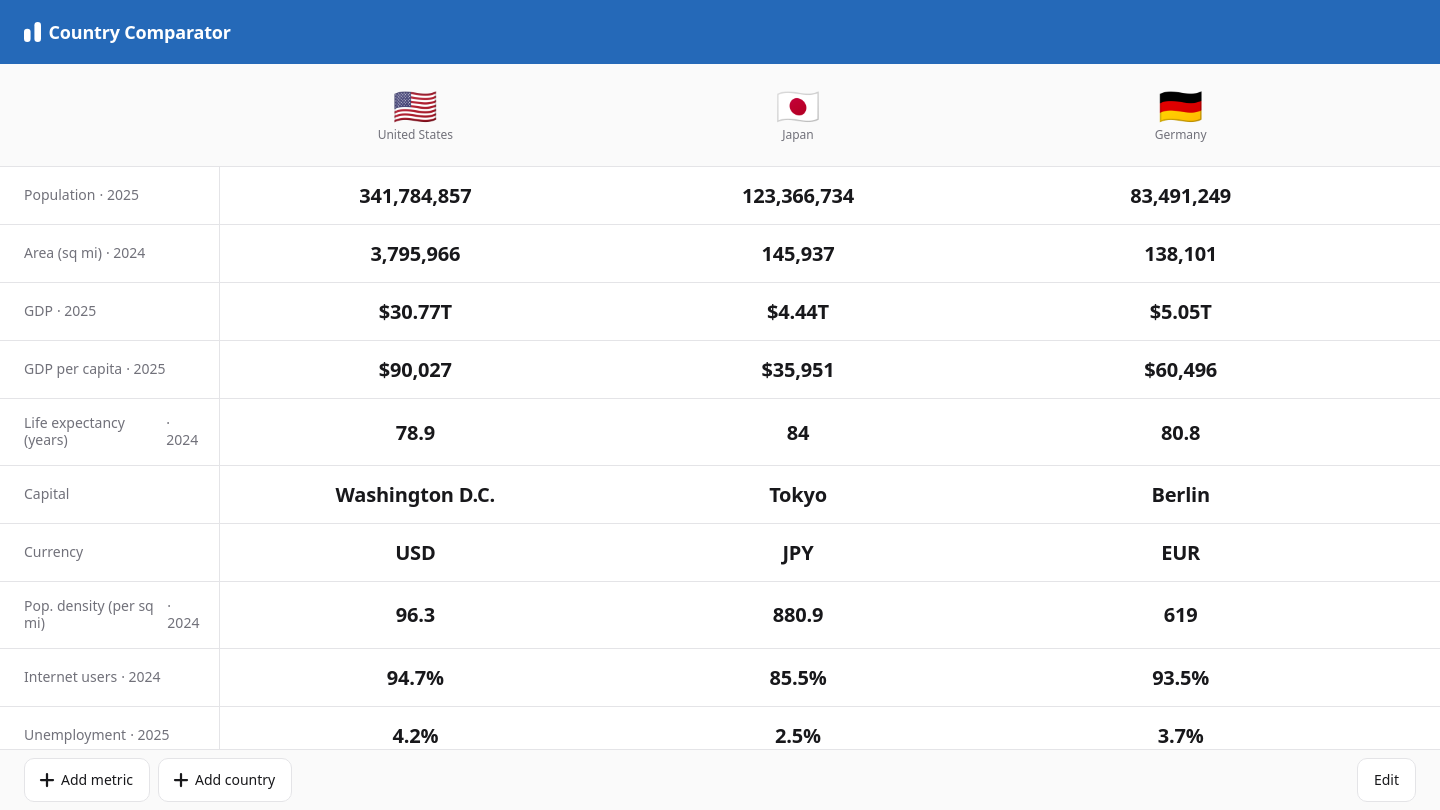
Test: App › edit mode › removes a country and a metric, and offers them in the pickers again
Click the button "Edit": (1386, 780) [1357, 758, 1416, 802]
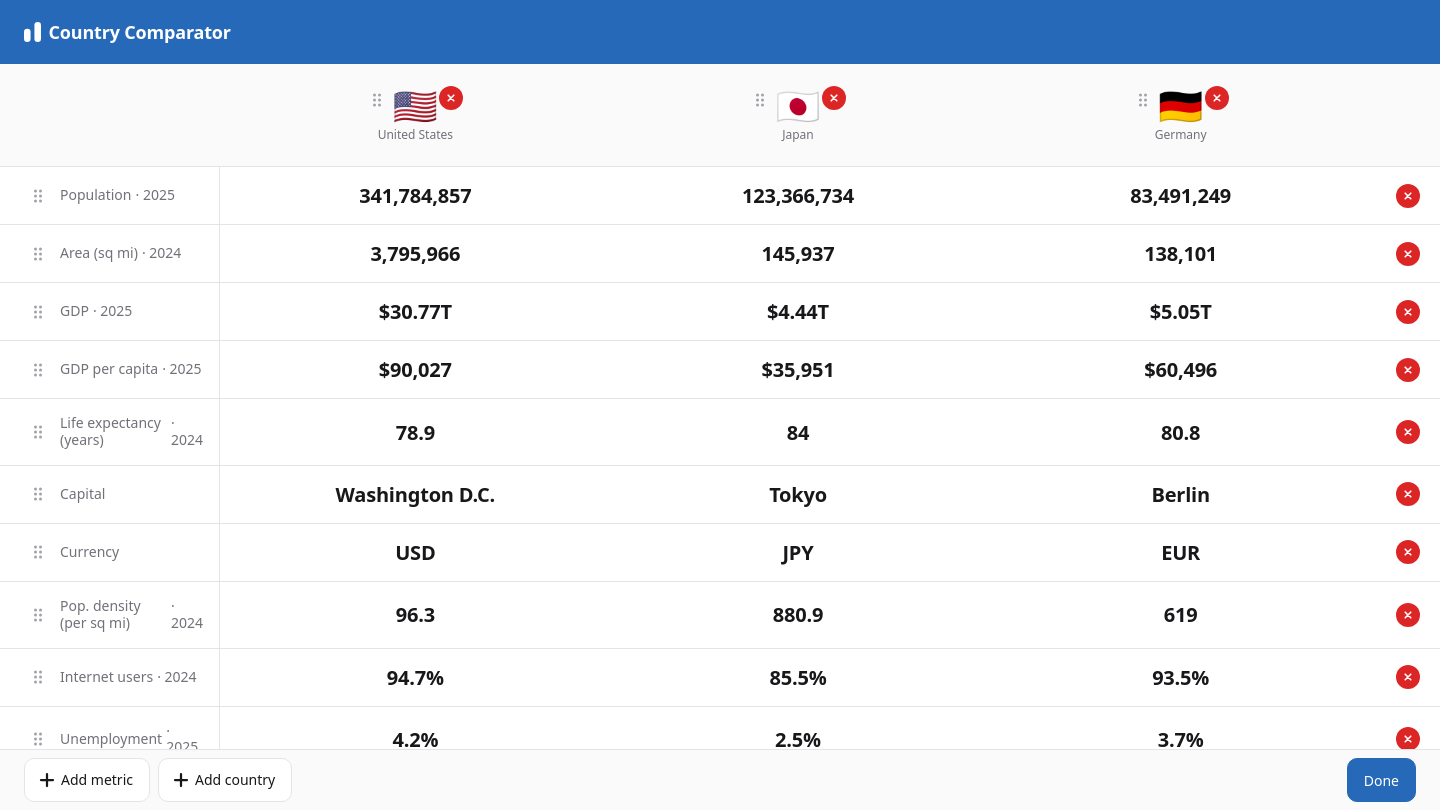
Click the button named "Remove Japan": (834, 98) [822, 86, 846, 110]
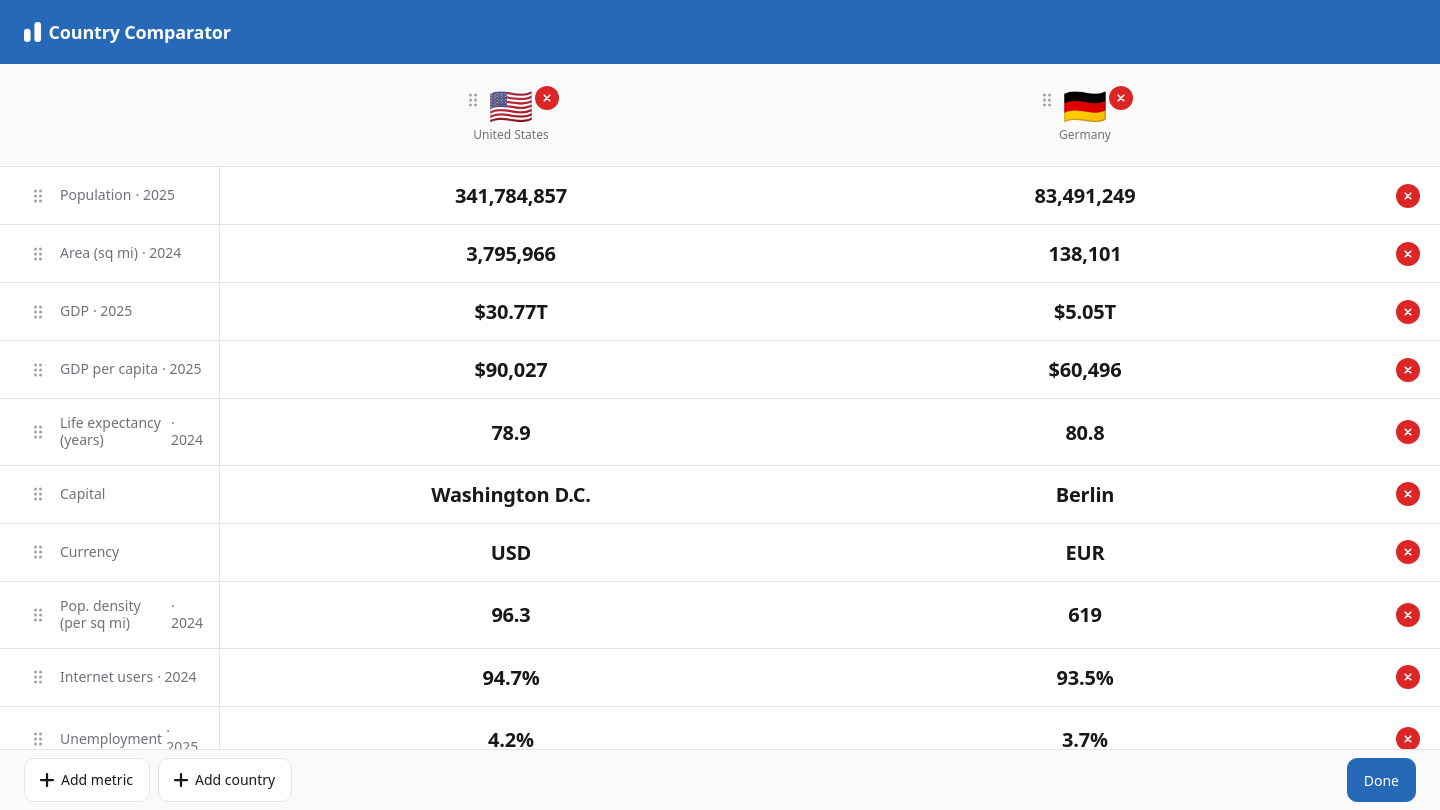
Check: the text "Japan" is gone
Click the button named "Remove Population": (1408, 196) [1396, 184, 1420, 208]
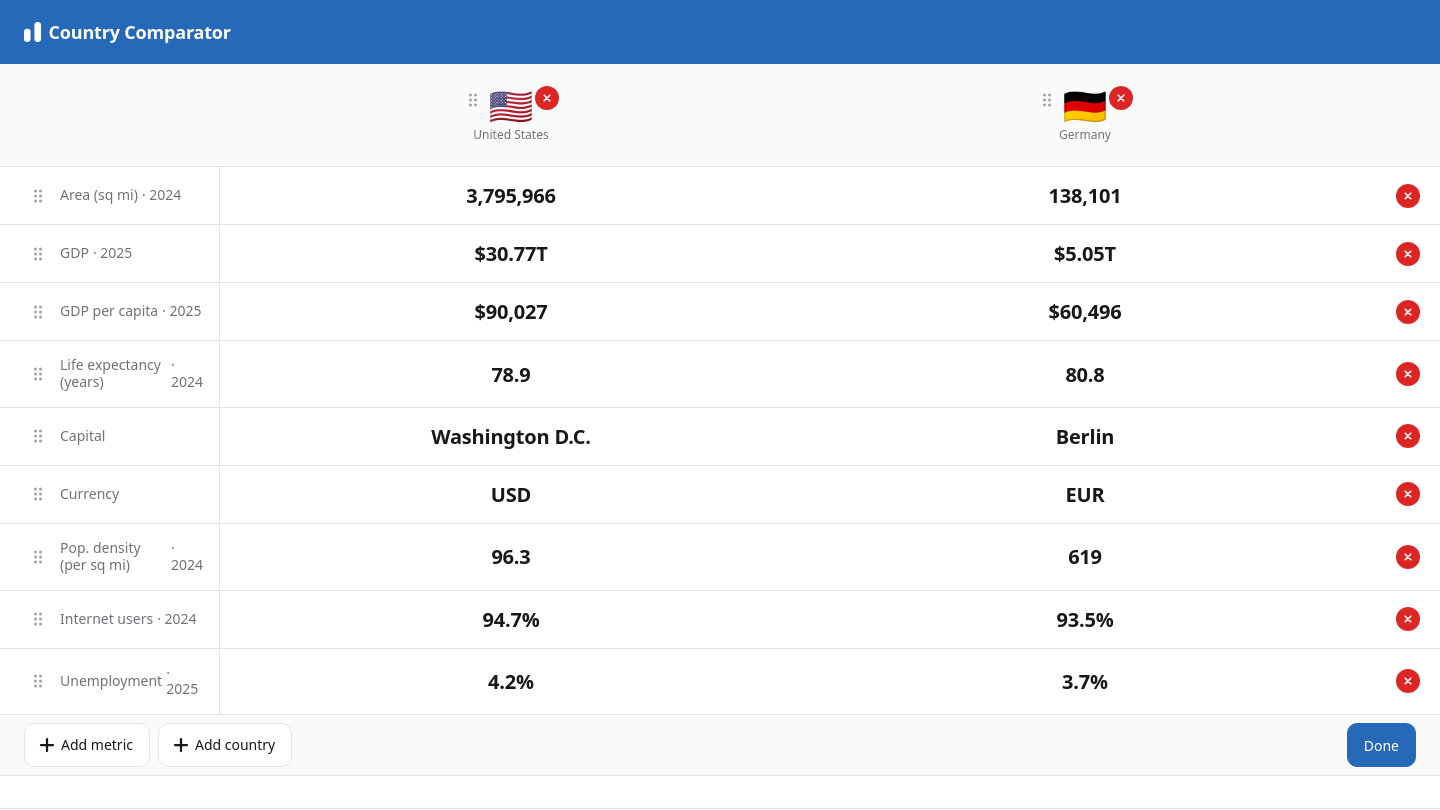
Check: the text "Population" is gone
Click the button "Add country": (225, 745) [158, 723, 292, 767]
(page scrolled)
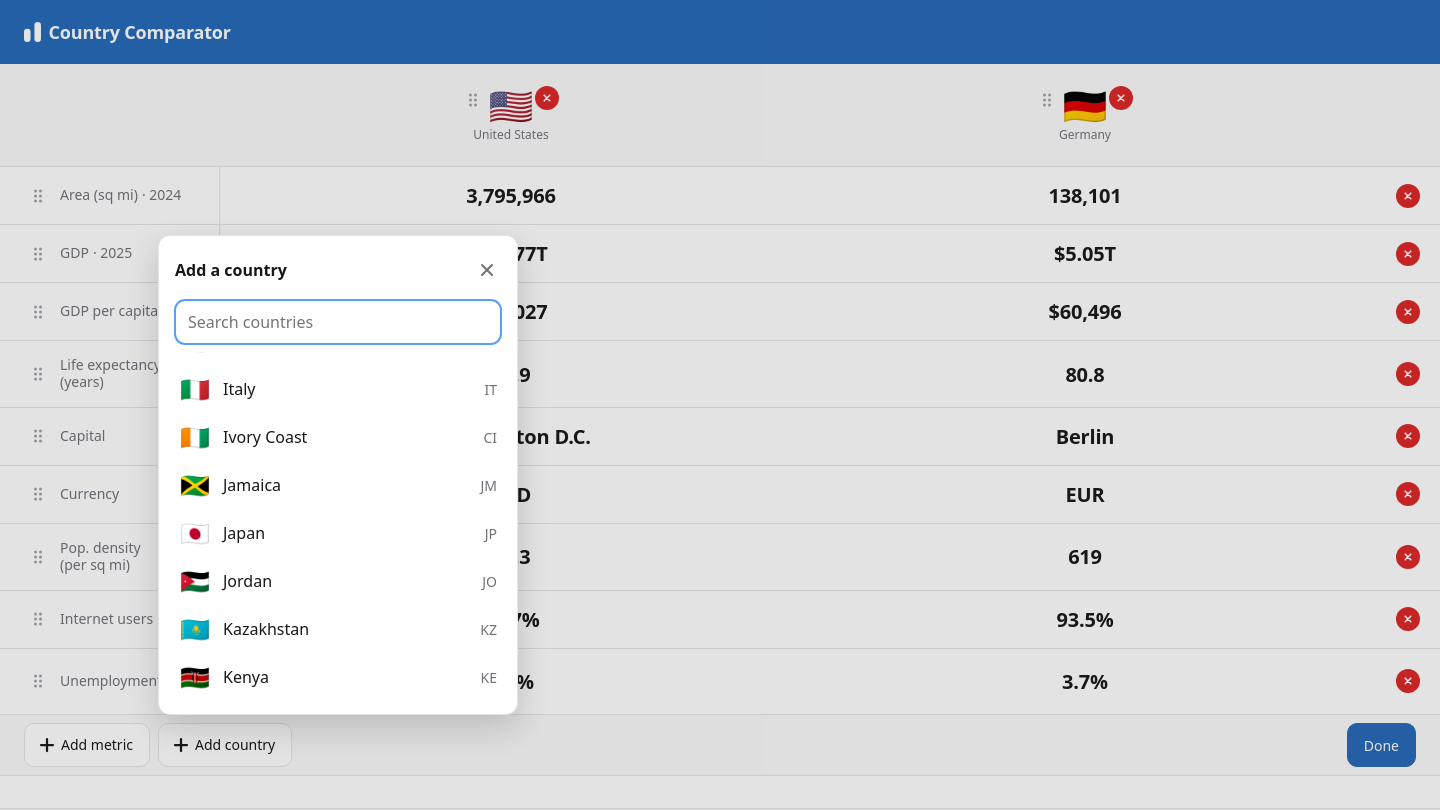
Check: the option "🇯🇵 Japan JP" is shown, box [167, 509, 509, 557]
